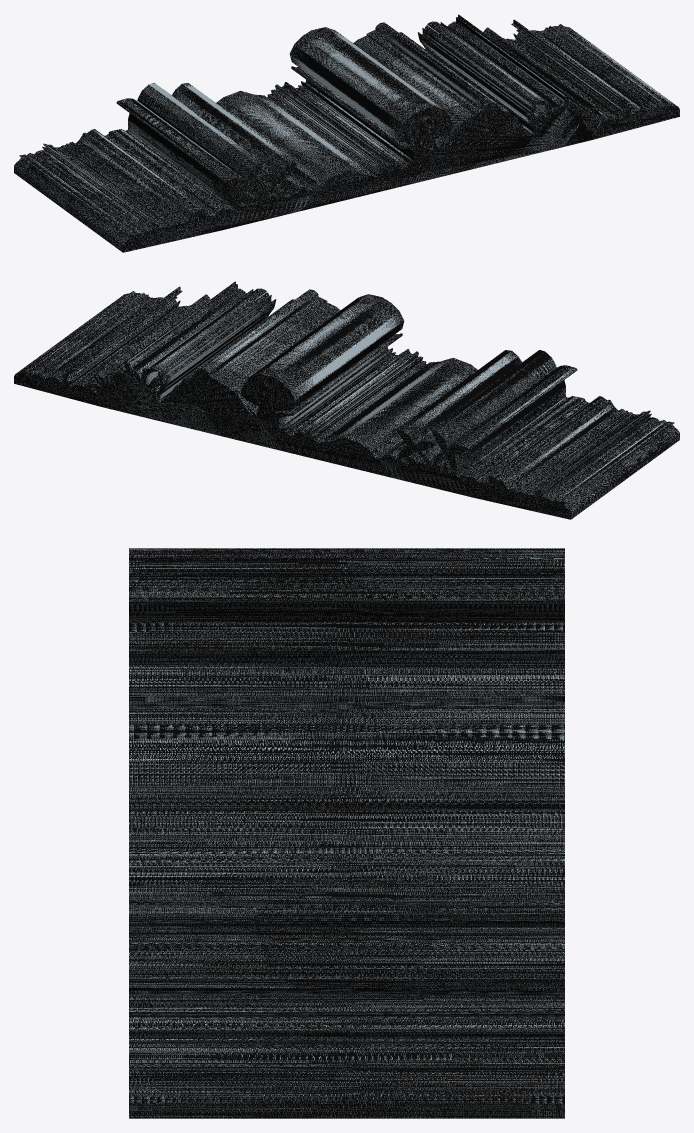
File: arka alt.fbx
3 renders of one model, top to bottom at view 1: azimuth 30°, elevation 25°; view 2: azimuth 150°, elevation 25°; view 3: azimuth 270°, elevation 25°, orthographic. The views are drawn at different scales.
Parts seen in each view (by area): view 1: Group1; view 2: Group1; view 3: Group1.
Boxes of the visible parts, box(x1,y1,x2,y2) form: Group1: box(14, 14, 679, 252); Group1: box(14, 281, 679, 519); Group1: box(129, 548, 564, 1118).
Bounding box in the file's own units: 6766 × 834 × 2295.
